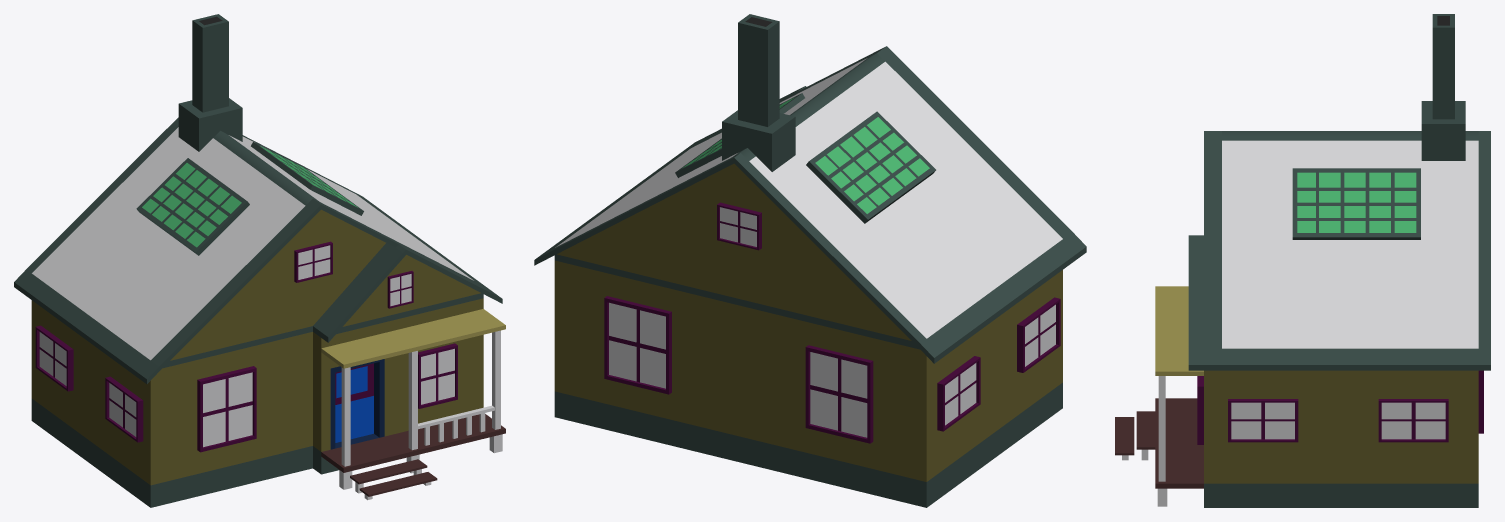
Rendered from house1a.FBX.
The picture shows the model from 3 angles, left to right: view 1: azimuth 30°, elevation 25°; view 2: azimuth 150°, elevation 25°; view 3: azimuth 270°, elevation 25°; orthographic projection. The views are drawn at different scales.
Visible parts, largest first — view 1: house1a; view 2: house1a; view 3: house1a.
Part boxes in pixels (box(x1,y1,x2,y2)): house1a: box(14, 14, 505, 507); house1a: box(534, 14, 1086, 507); house1a: box(1115, 14, 1490, 507).
Bounding box in the file's own units: 25.63 × 26.14 × 22.16.
